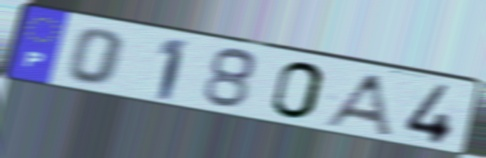0: (65, 26, 127, 89), (269, 60, 326, 122)
1: (155, 37, 192, 104)
4: (400, 82, 456, 147)
8: (198, 47, 261, 112)
A: (318, 71, 396, 139)
